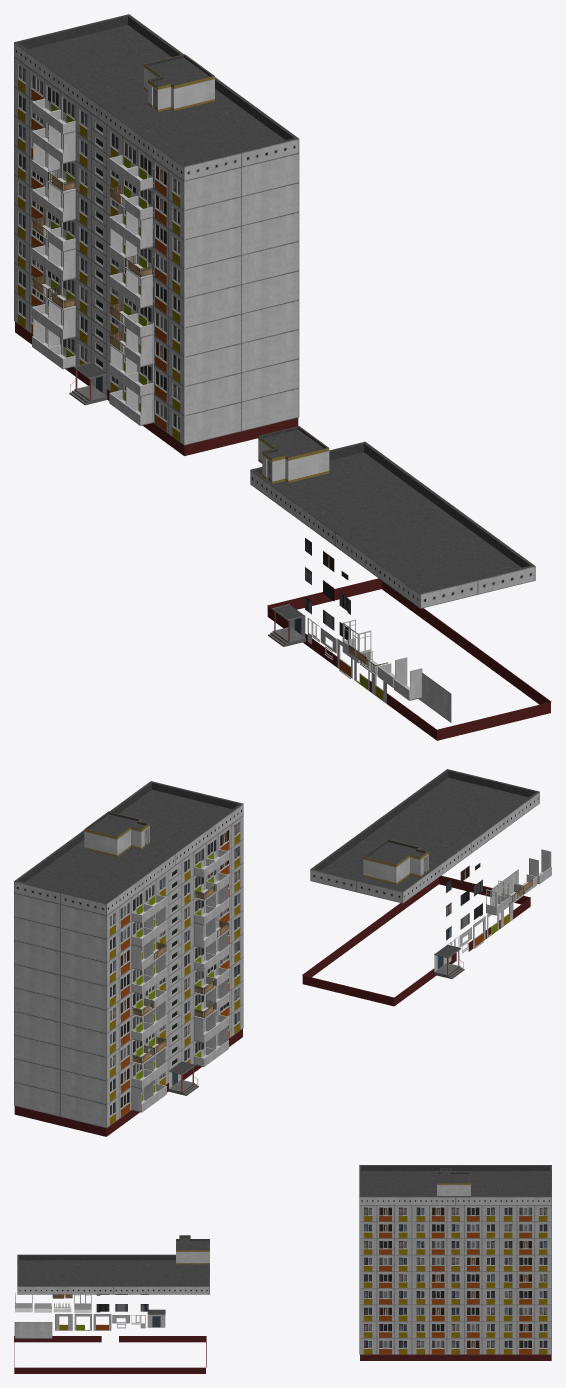
Rendered from panel_house_4.glb.
3 views of the same model, one above another, from view 1: azimuth 30°, elevation 25°; view 2: azimuth 150°, elevation 25°; view 3: azimuth 270°, elevation 25° (orthographic). The views are drawn at different scales.
Visible parts, largest first — view 1: Box008.001_Base_Mat_house_0, Balcony_Window_1.001_Mat_Windows_0; view 2: Box008.001_Base_Mat_house_0, Balcony_Window_1.001_Mat_Windows_0; view 3: Box008.001_Base_Mat_house_0, Balcony_Window_1.001_Mat_Windows_0.
Boxes of the visible parts, x1,y1,x2,y2 form: Box008.001_Base_Mat_house_0: [14, 14, 551, 740]; Balcony_Window_1.001_Mat_Windows_0: [19, 65, 350, 639]; Box008.001_Base_Mat_house_0: [14, 769, 551, 1136]; Balcony_Window_1.001_Mat_Windows_0: [110, 822, 482, 1115]; Box008.001_Base_Mat_house_0: [14, 1165, 551, 1373]; Balcony_Window_1.001_Mat_Windows_0: [96, 1207, 547, 1347].
Bounding box in the file's own units: 21.68 × 36.07 × 87.58.
Materials: 2 (2 with a texture image).
